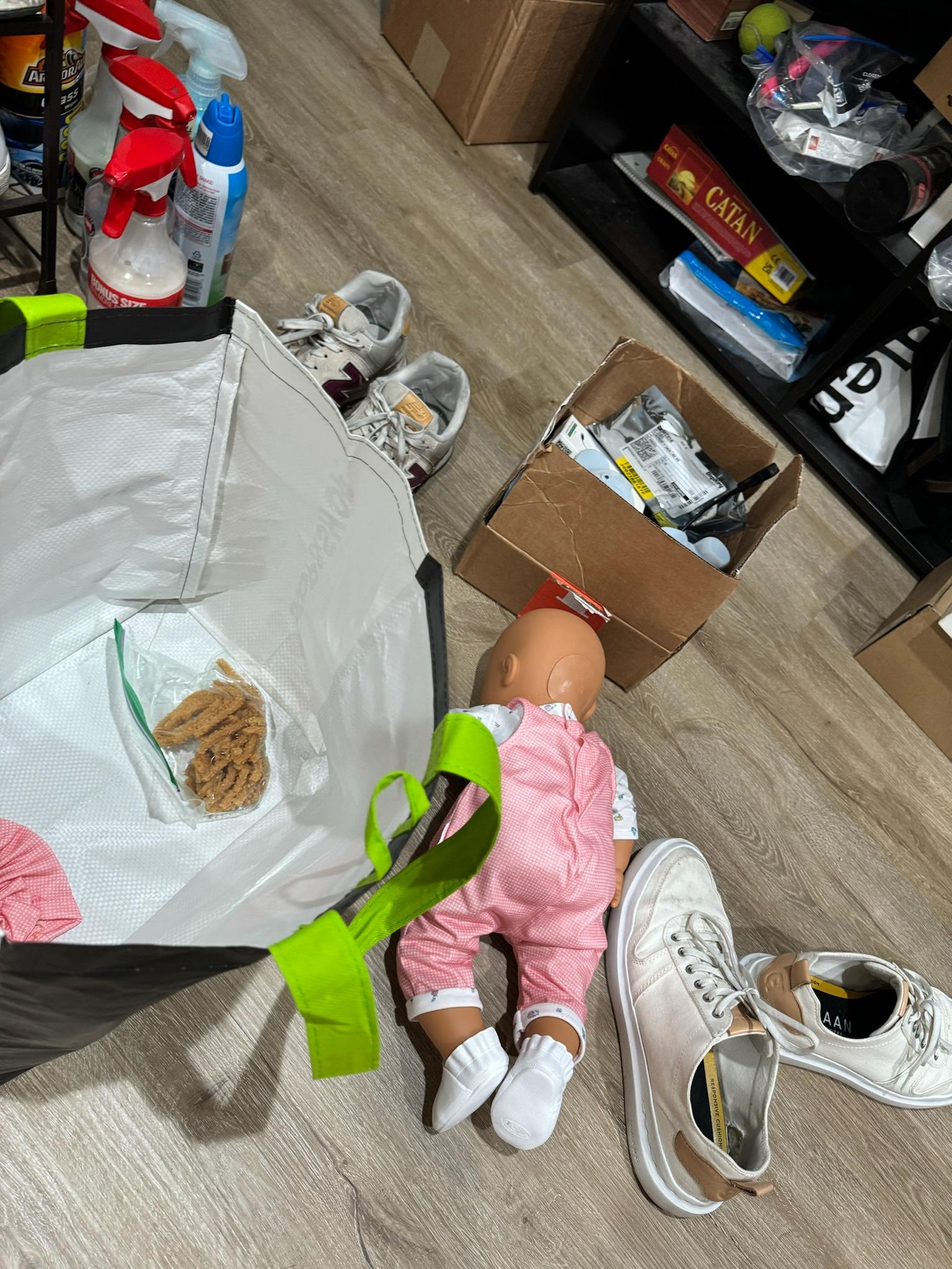baby: (424, 574, 636, 1163)
